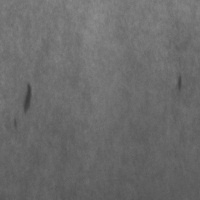inclusion: (11, 82, 34, 130), (174, 66, 186, 95)
